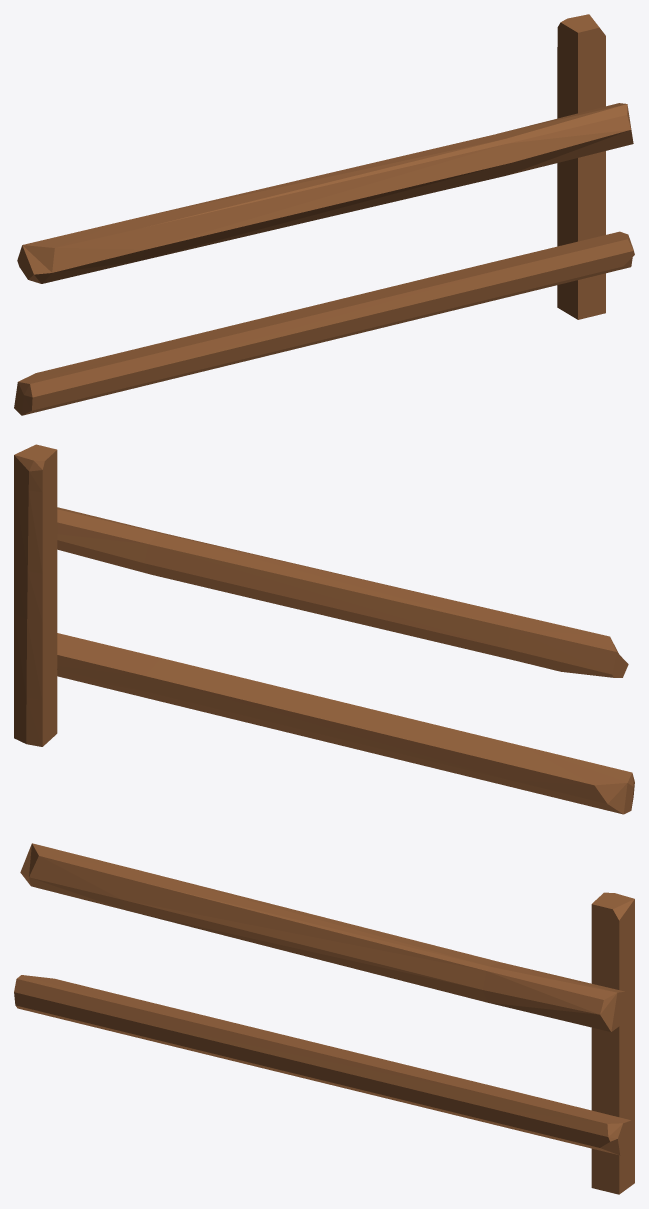
The model's file is CampGround_Fence_03.fbx.
3 views of the same model, one above another, from view 1: azimuth 30°, elevation 25°; view 2: azimuth 150°, elevation 25°; view 3: azimuth 330°, elevation 25° (orthographic).
Visible parts, largest first — view 1: SM_Campground_Fence_03.mo; view 2: SM_Campground_Fence_03.mo; view 3: SM_Campground_Fence_03.mo.
Part boxes in pixels (box(x1,y1,x2,y2)): SM_Campground_Fence_03.mo: box(14, 14, 634, 415); SM_Campground_Fence_03.mo: box(14, 444, 634, 814); SM_Campground_Fence_03.mo: box(14, 843, 634, 1194).
Bounding box in the file's own units: 221 × 99.44 × 26.13.
